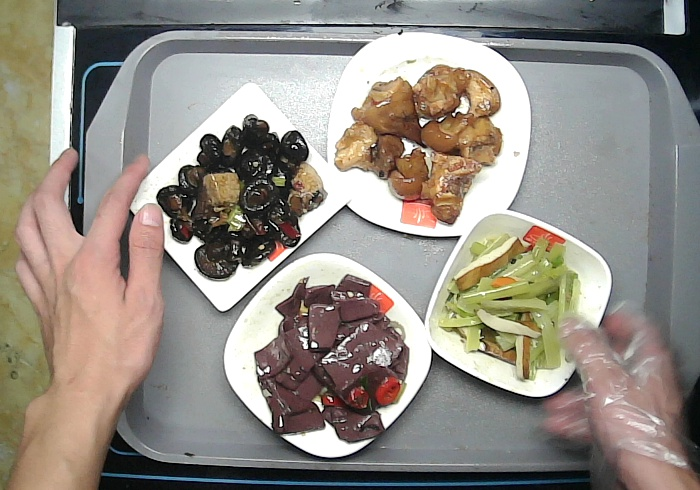SHKJ-Bai_Se_Cai_Die: (221, 249, 437, 461)
SHKJ-Bai_Se_Si_Fang_Cai_Die: (323, 29, 541, 241)
SHKJ-Bai_Se_Xiao_Fang_Die: (420, 204, 619, 402)
SHKJ-Si_Fang_Min: (122, 79, 361, 318)
